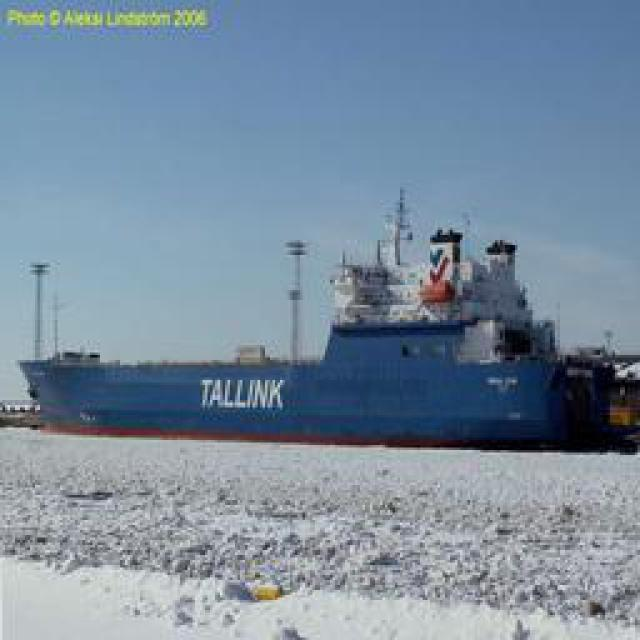Ship: (26, 202, 624, 445)
